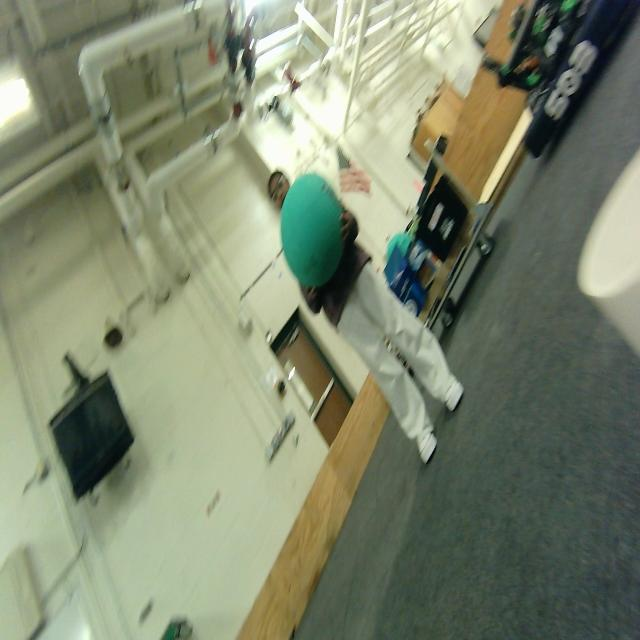algae: (280, 173, 345, 289)
